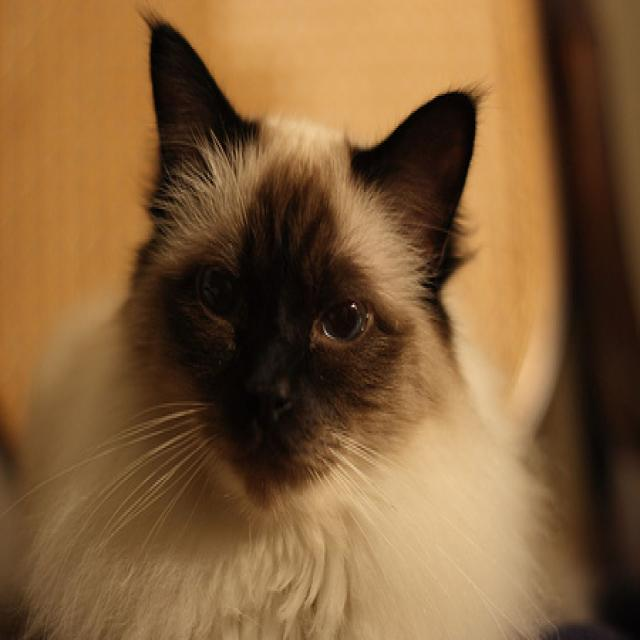Birman: (16, 0, 559, 640)
